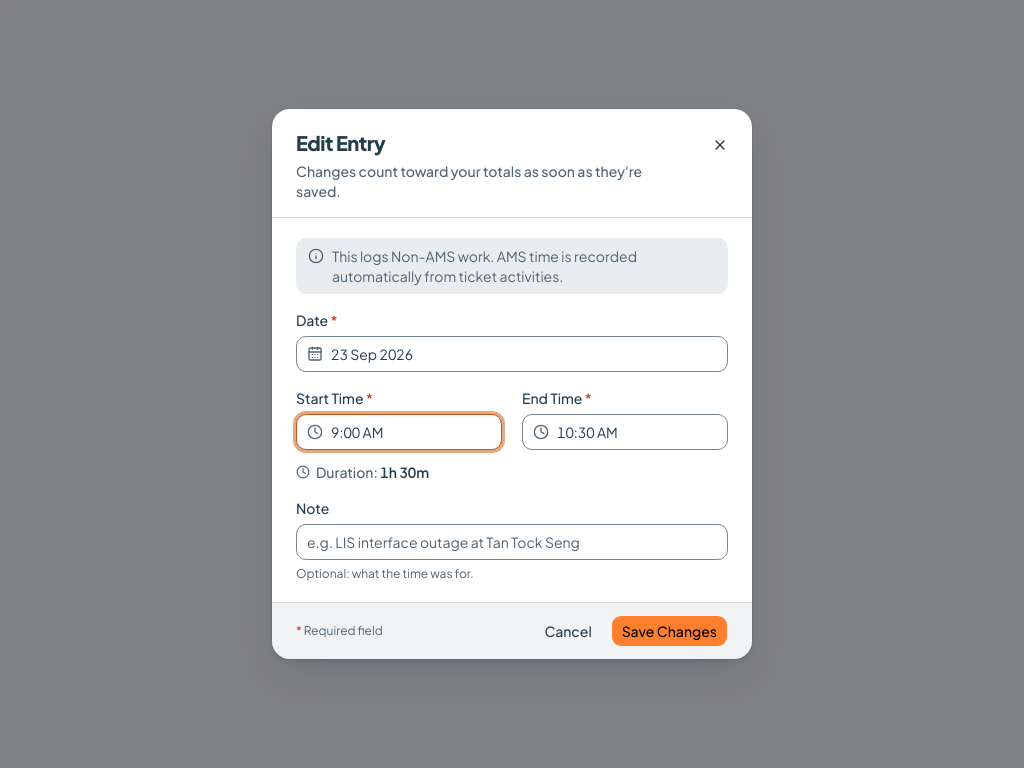
Test case: LogHoursDialog saving › shows the API's field errors on their fields, and the rest as a general alert
The width and height of the screenshot is (1024, 768).
Step 1. Click the button "Save Changes" → (669, 631), box [611,615,728,647]
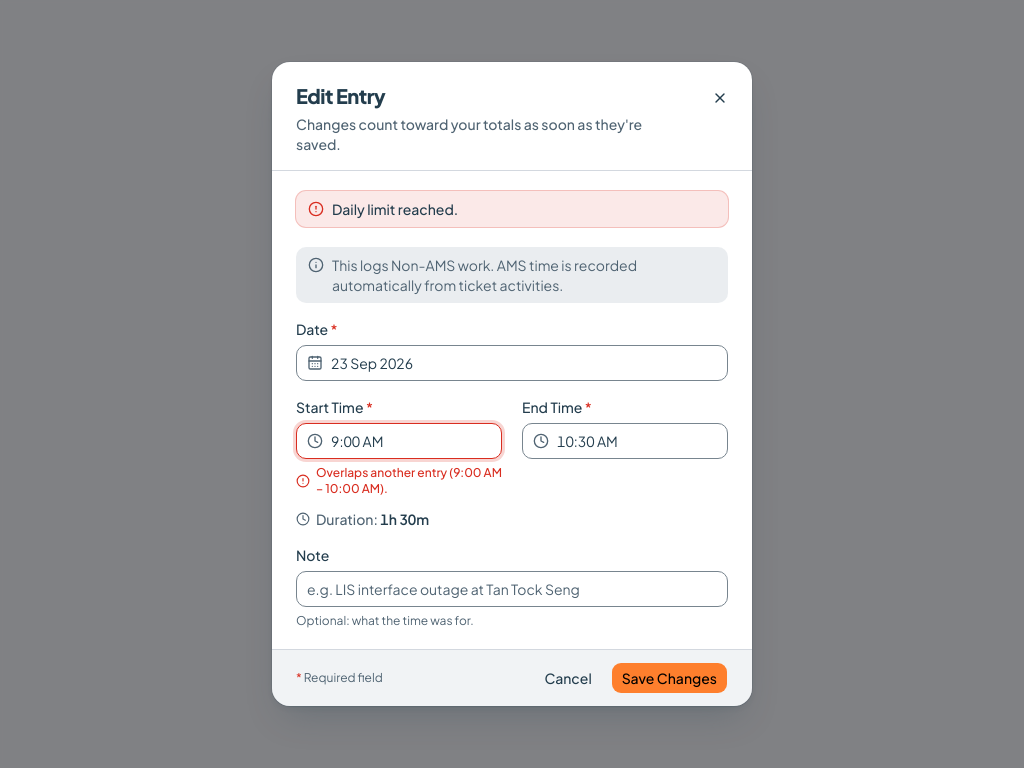
Result: the element showing "Overlaps another entry (9:00 AM – 10:00 AM)." is shown at [296,465,502,497]
Result: the message reads "Daily limit reached." at [332,200,458,218]
